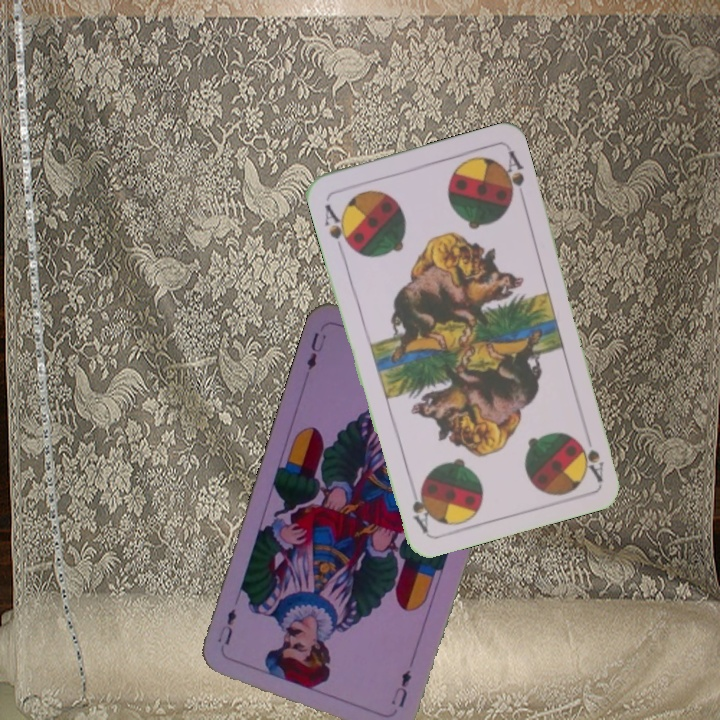EU: (302, 328, 329, 373), (387, 666, 414, 710)
SA: (320, 200, 355, 255), (575, 425, 607, 484)
